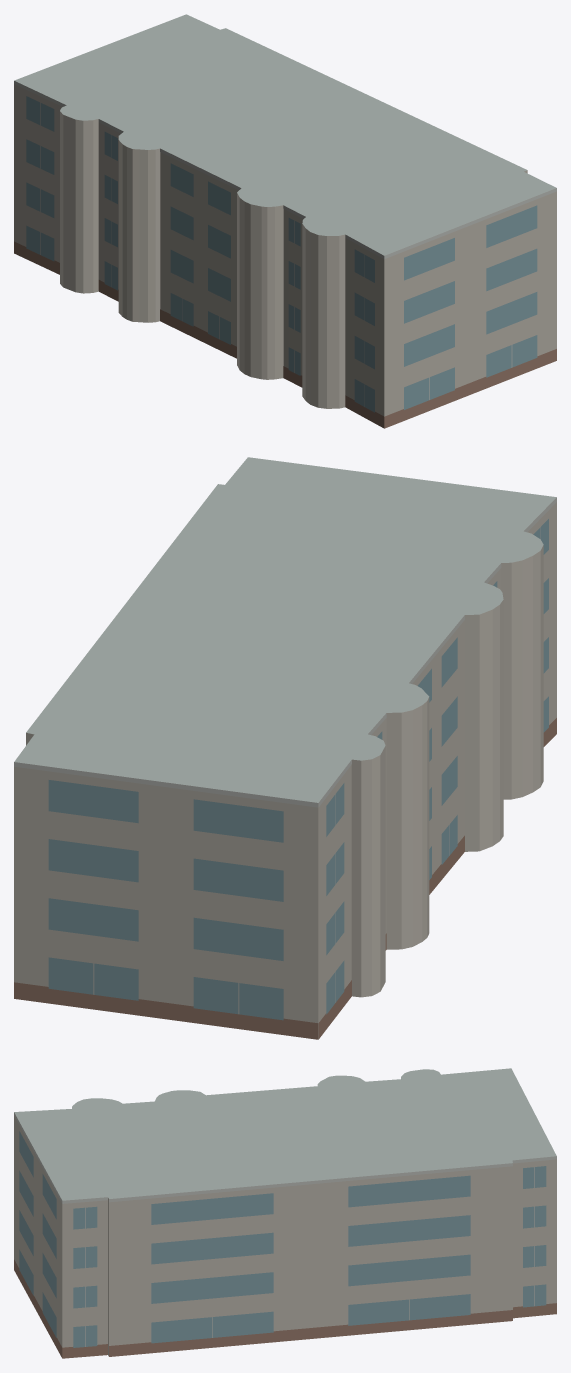
The model's file is survey-upis-32505053.glb.
3 views of the same model, one above another, from view 1: azimuth 30°, elevation 25°; view 2: azimuth 150°, elevation 25°; view 3: azimuth 270°, elevation 25° (orthographic). The views are drawn at different scales.
Parts seen in each view (by area): view 1: survey-upis-32505053.tmp; view 2: survey-upis-32505053.tmp; view 3: survey-upis-32505053.tmp.
Part boxes in pixels (x1,y1,x2,y2): survey-upis-32505053.tmp: (14,14,556,428); survey-upis-32505053.tmp: (14,457,556,1039); survey-upis-32505053.tmp: (14,1068,556,1358).
Bounding box in the file's own units: 21.97 × 12.2 × 38.03.
